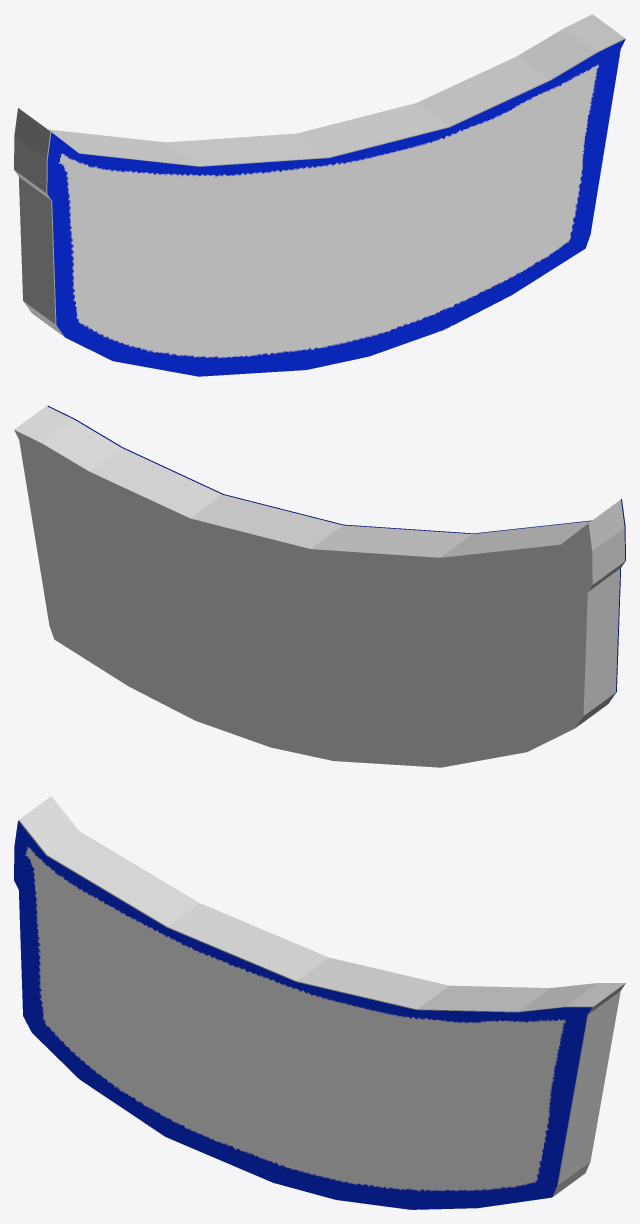
3 renders of one model, top to bottom at view 1: azimuth 30°, elevation 25°; view 2: azimuth 150°, elevation 25°; view 3: azimuth 330°, elevation 25°, orthographic.
Visible parts, largest first — view 1: In_1_1, In_1_0; view 2: In_1_0, In_1_1; view 3: In_1_1, In_1_0.
Boxes of the visible parts, left/top/right/bottom form: In_1_1: left=47, top=39, right=625, bottom=376; In_1_0: left=14, top=14, right=624, bottom=336; In_1_0: left=14, top=406, right=624, bottom=767; In_1_1: left=47, top=405, right=625, bottom=703; In_1_1: left=14, top=821, right=592, bottom=1209; In_1_0: left=19, top=796, right=625, bottom=1196.
Bounding box in the file's own units: 5.15 × 2.57 × 0.515.
Materials: 2 (1 with a texture image).
